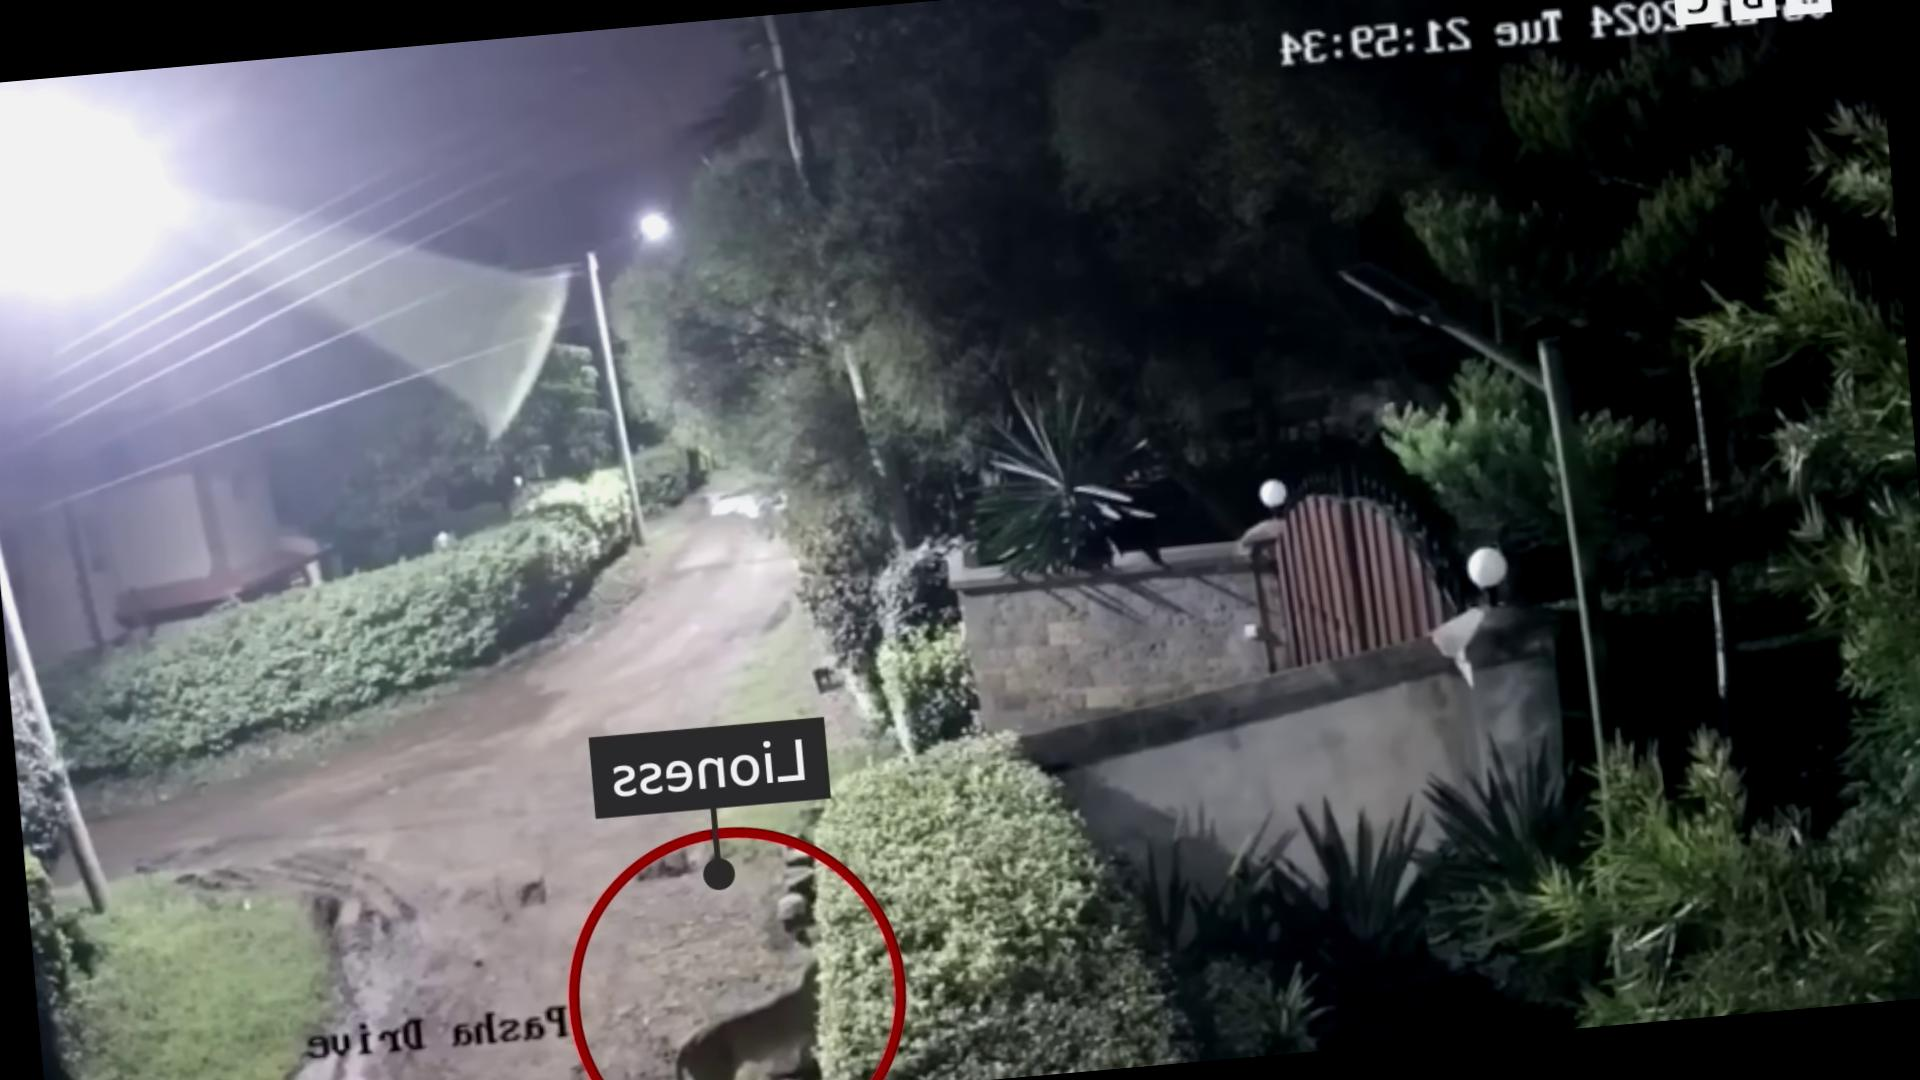lions: (587, 865, 922, 1080)
